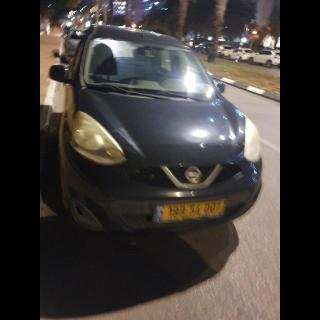LicensePlate: (161, 200, 225, 220)
